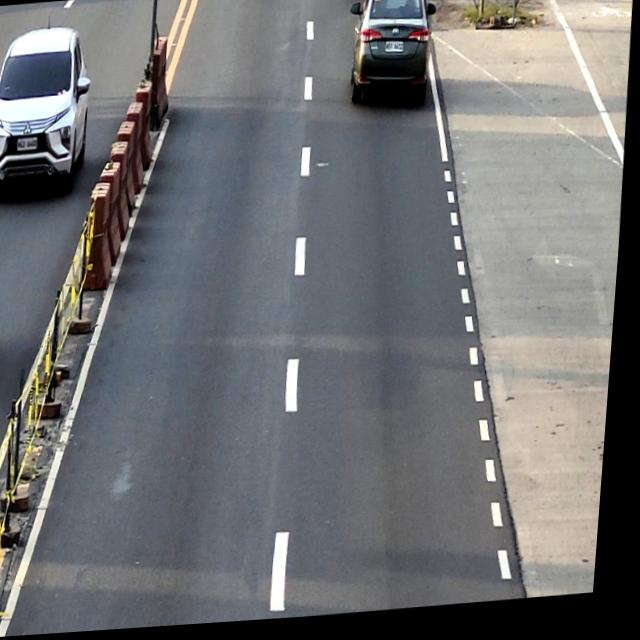Car: (0, 24, 98, 196), (344, 0, 440, 118)
License-Plate: (18, 137, 40, 151), (385, 46, 405, 59)
